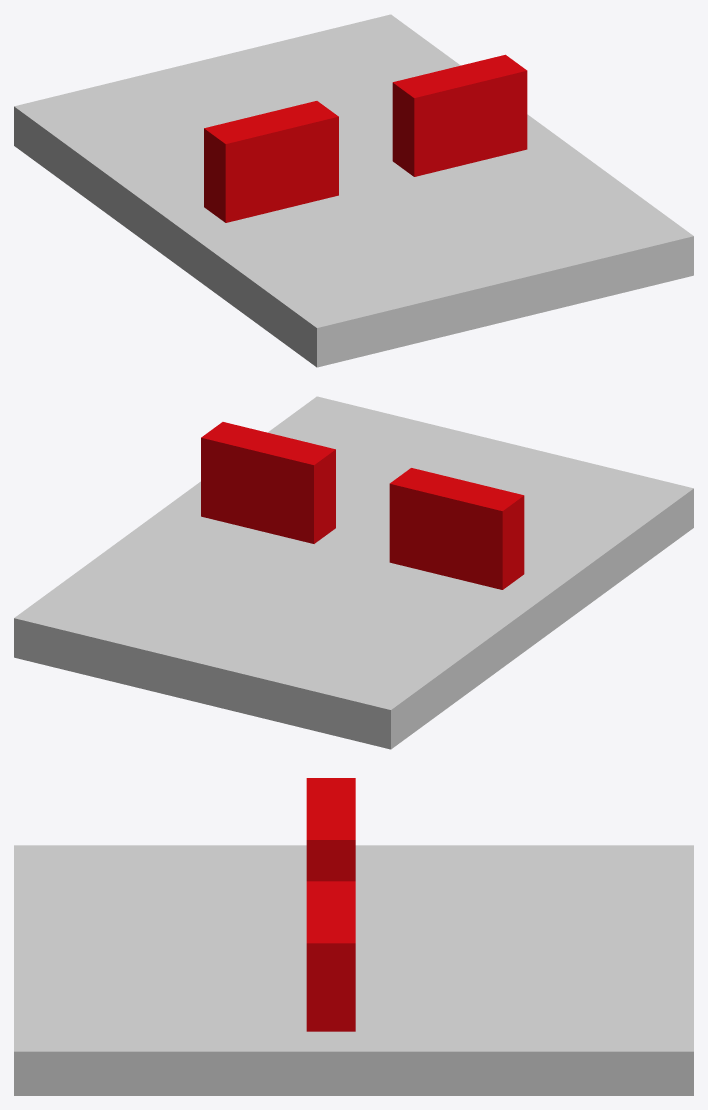
The model's file is Module2.glb.
The picture shows the model from 3 angles, top to bottom: view 1: azimuth 30°, elevation 25°; view 2: azimuth 150°, elevation 25°; view 3: azimuth 270°, elevation 25°; orthographic projection. The views are drawn at different scales.
Parts seen in each view (by area): view 1: Floor2-col, Obstacle4, Obstacle3; view 2: Floor2-col, Obstacle3, Obstacle4; view 3: Floor2-col, Obstacle4, Obstacle3.
Part boxes in pixels (box(x1,y1,x2,y2)): Floor2-col: box(14, 14, 693, 367); Obstacle4: box(392, 54, 527, 176); Obstacle3: box(204, 101, 338, 222); Floor2-col: box(14, 396, 693, 749); Obstacle3: box(389, 468, 524, 589); Obstacle4: box(201, 422, 335, 543); Floor2-col: box(14, 845, 693, 1095); Obstacle4: box(306, 881, 355, 1031); Obstacle3: box(306, 778, 355, 881).
Bounding box in the file's own units: 10 × 3 × 13.92.
